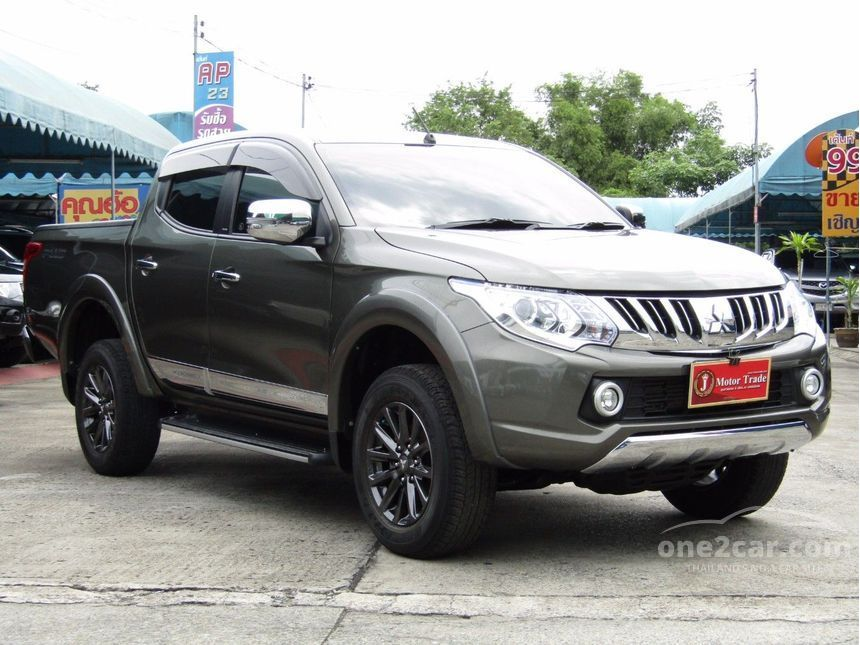pickup: (20, 125, 836, 557)
